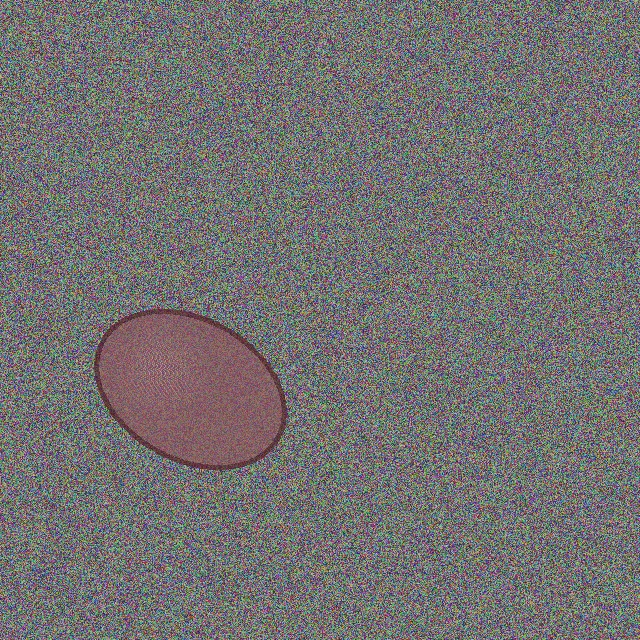lens: (97, 311, 283, 467)
